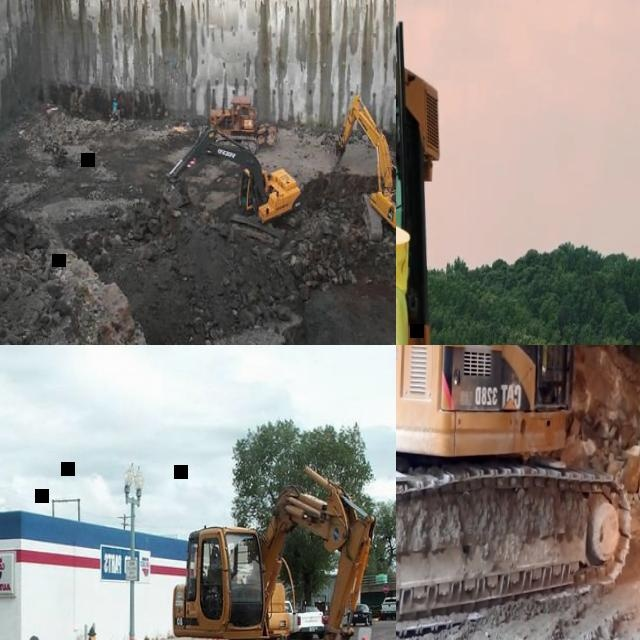Hardhat: (113, 98, 118, 102)
NO-Hardhat: (29, 634, 41, 640)
Person: (515, 345, 559, 404), (112, 96, 119, 116)
Safety Vest: (113, 103, 118, 112)
machinery: (396, 345, 640, 640), (170, 465, 376, 640), (163, 128, 306, 248), (333, 91, 396, 246), (199, 96, 261, 152)
vehicle: (281, 601, 325, 640), (300, 606, 331, 638), (348, 603, 373, 625), (380, 597, 396, 620)
